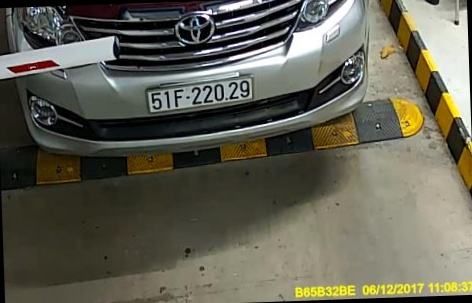plate: (136, 73, 260, 121)
